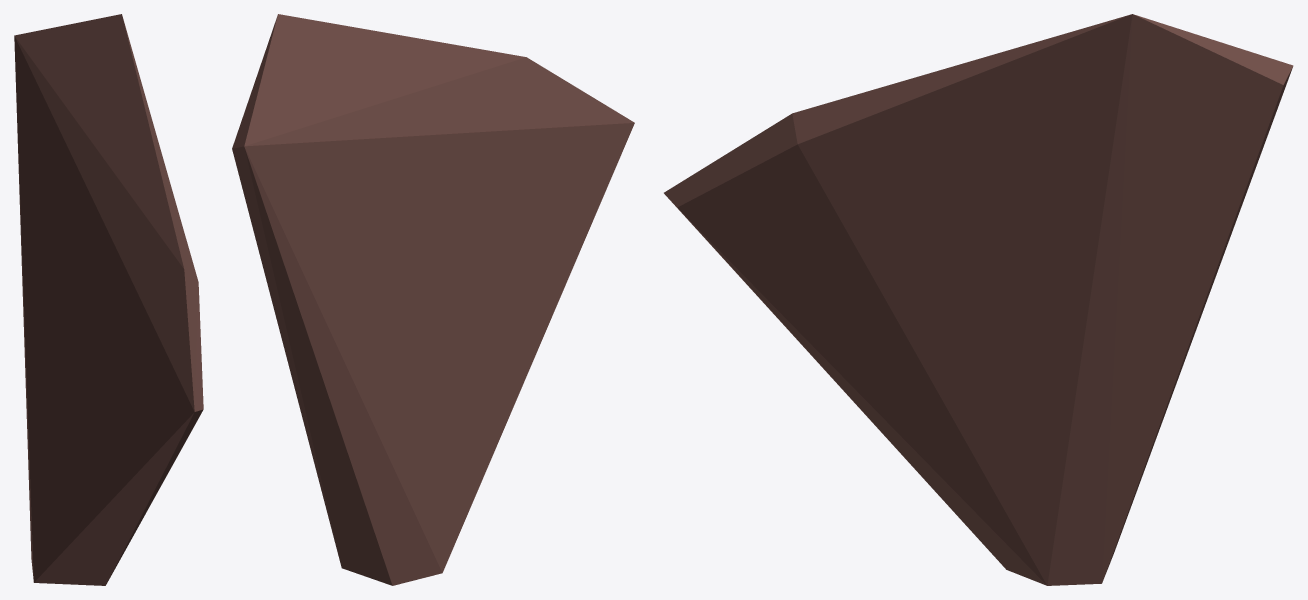
Rendered from Willow_Dead_5.lod4.glb.
3 renders of one model, left to right at view 1: azimuth 30°, elevation 25°; view 2: azimuth 150°, elevation 25°; view 3: azimuth 270°, elevation 25°, orthographic. The views are drawn at different scales.
Parts seen in each view (by area): view 1: Willow_Dead_5; view 2: Willow_Dead_5; view 3: Willow_Dead_5.
Part boxes in pixels (box(x1,y1,x2,y2)): Willow_Dead_5: box(14, 14, 203, 585); Willow_Dead_5: box(232, 14, 634, 585); Willow_Dead_5: box(664, 14, 1293, 585).
Size of the model in its own units: 0.5389 by 2.04 by 1.96.
